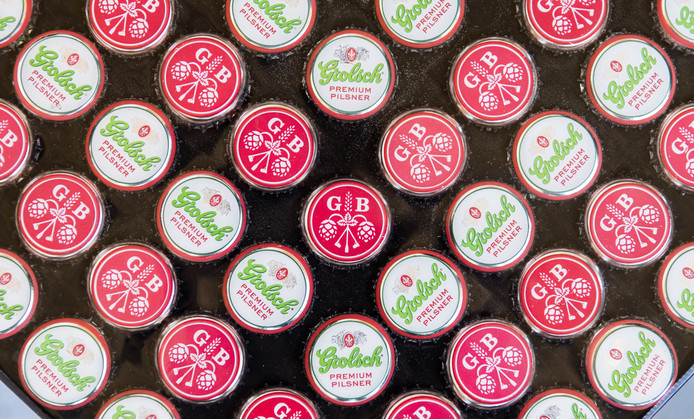grolsch: (222, 97, 323, 196), (149, 29, 252, 125), (513, 247, 608, 343), (375, 104, 470, 199), (86, 240, 181, 335), (14, 167, 107, 264), (446, 35, 540, 130), (442, 318, 538, 410), (301, 175, 394, 269), (154, 314, 247, 407), (582, 179, 675, 268)
